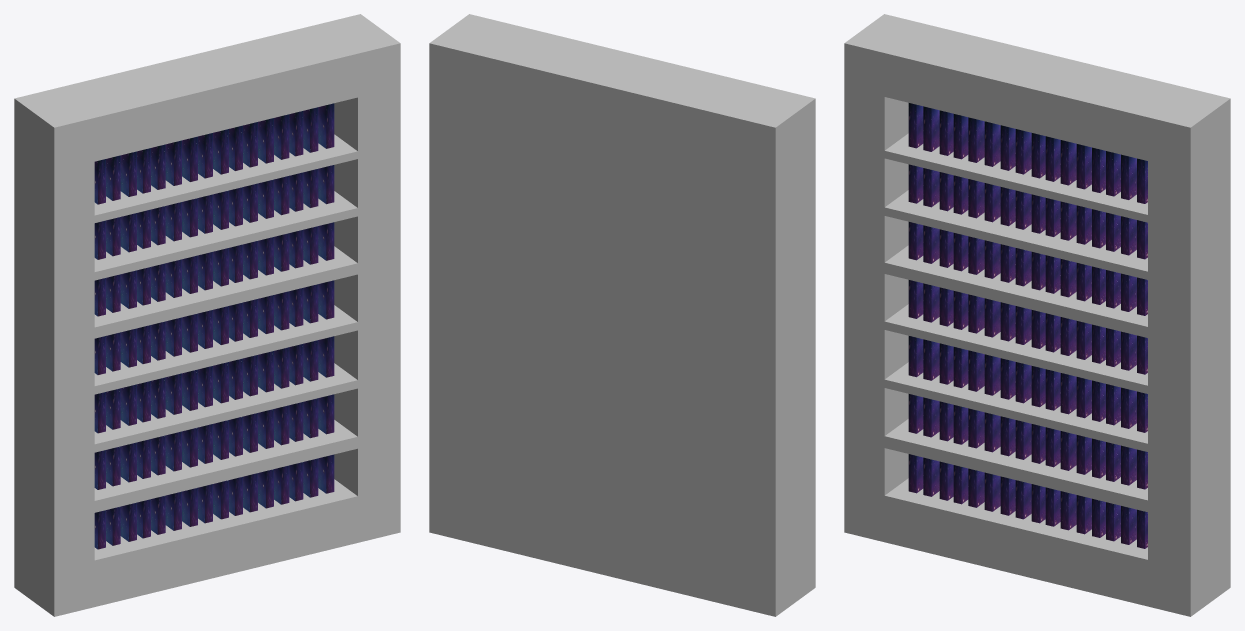
File: Bookcase.obj
3 renders of one model, left to right at view 1: azimuth 30°, elevation 25°; view 2: azimuth 150°, elevation 25°; view 3: azimuth 330°, elevation 25°, orthographic.
Parts seen in each view (by area): view 1: Bookcase, Cube.047, Cube.037, Cube.034, Cube.046, Cube.044, Cube.040, Cube.043, Cube.038, Cube.079, Cube.045, Cube.066 (+87 smaller); view 2: Bookcase; view 3: Bookcase, Cube.037, Cube.039, Cube.042, Cube.036, Cube.033, Cube.041, Cube.043, Cube.032, Cube.038, Cube.035, Cube.046 (+90 smaller).
Part boxes in pixels (x1,y1,x2,y2): Bookcase: (14, 14, 400, 616); Cube.047: (318, 103, 334, 148); Cube.037: (165, 140, 181, 185); Cube.034: (120, 151, 136, 196); Cube.046: (303, 107, 318, 152); Cube.044: (274, 114, 289, 159); Cube.040: (213, 129, 228, 174); Cube.043: (258, 118, 273, 163); Cube.038: (182, 136, 197, 181); Cube.079: (318, 336, 334, 377); Cube.045: (289, 111, 303, 156); Cube.066: (120, 384, 136, 425); Bookcase: (429, 14, 815, 616); Bookcase: (844, 14, 1230, 616); Cube.037: (984, 121, 1000, 166); Cube.039: (1015, 129, 1031, 174); Cube.042: (1060, 140, 1076, 185); Cube.036: (968, 117, 984, 162); Cube.033: (923, 106, 939, 151); Cube.041: (1045, 136, 1060, 181); Cube.043: (1076, 144, 1091, 189); Cube.032: (908, 103, 923, 148); Cube.038: (1000, 125, 1015, 170); Cube.035: (953, 114, 968, 159); Cube.046: (1121, 154, 1136, 199).
Size of the model in its own units: 2 by 2.7 by 0.4.
